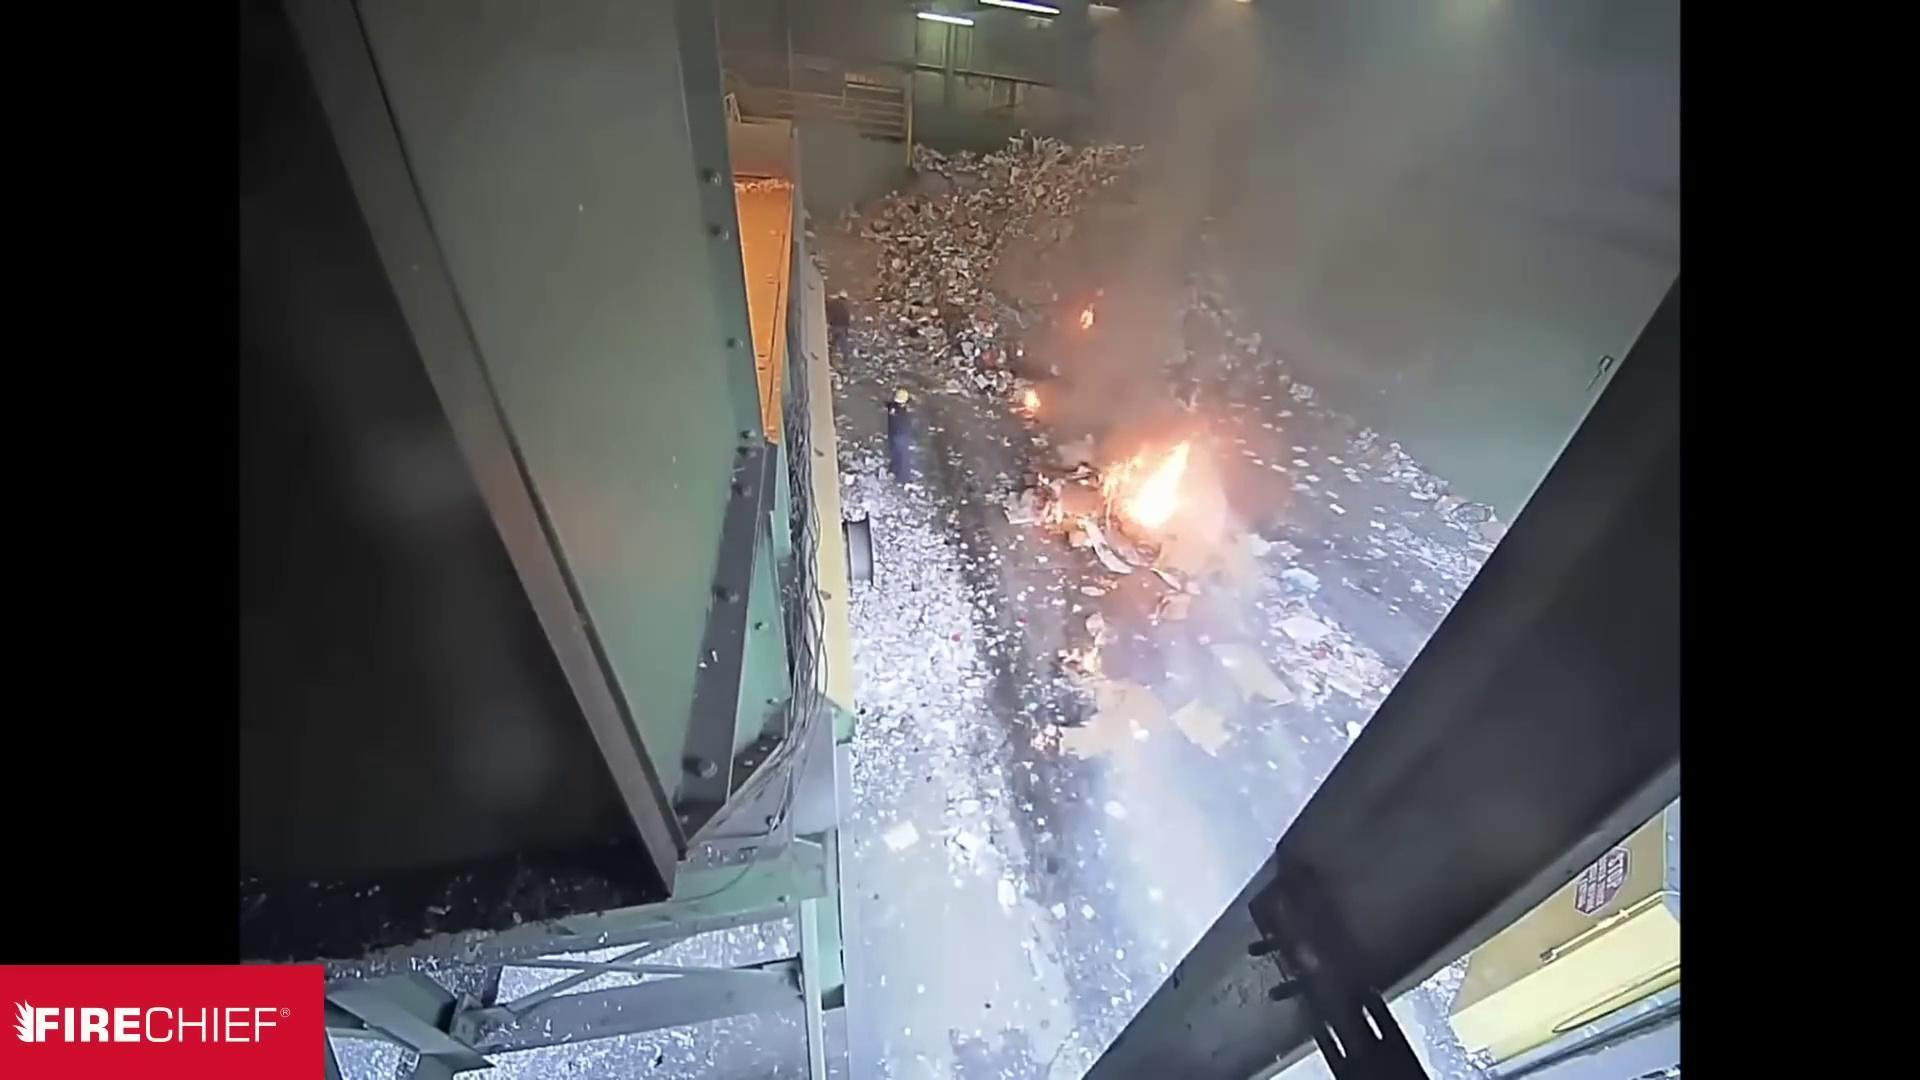fire: (957, 251, 1361, 618)
